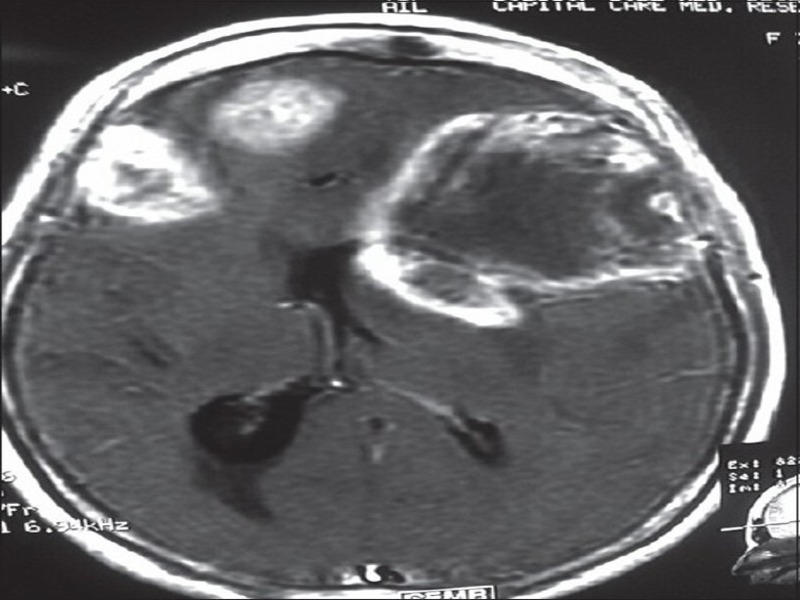tumor: (202, 75, 348, 165)
